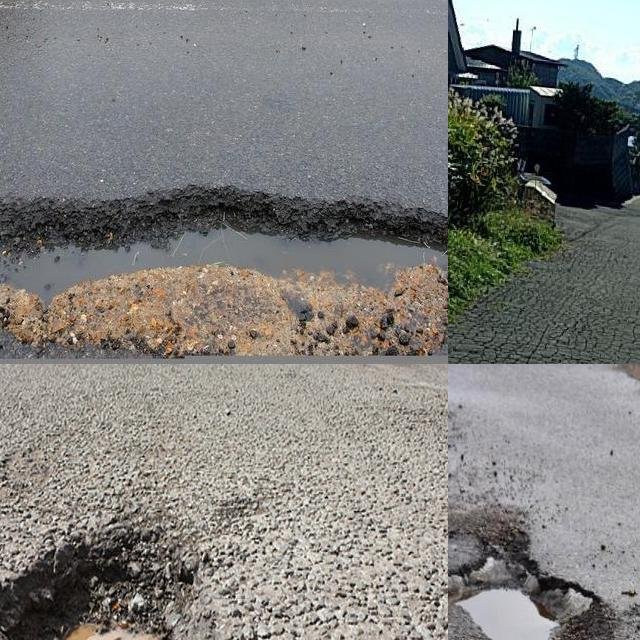Lubang: (0, 194, 448, 360), (0, 531, 198, 640), (448, 514, 608, 640)
Retak Buaya: (448, 244, 640, 364)
